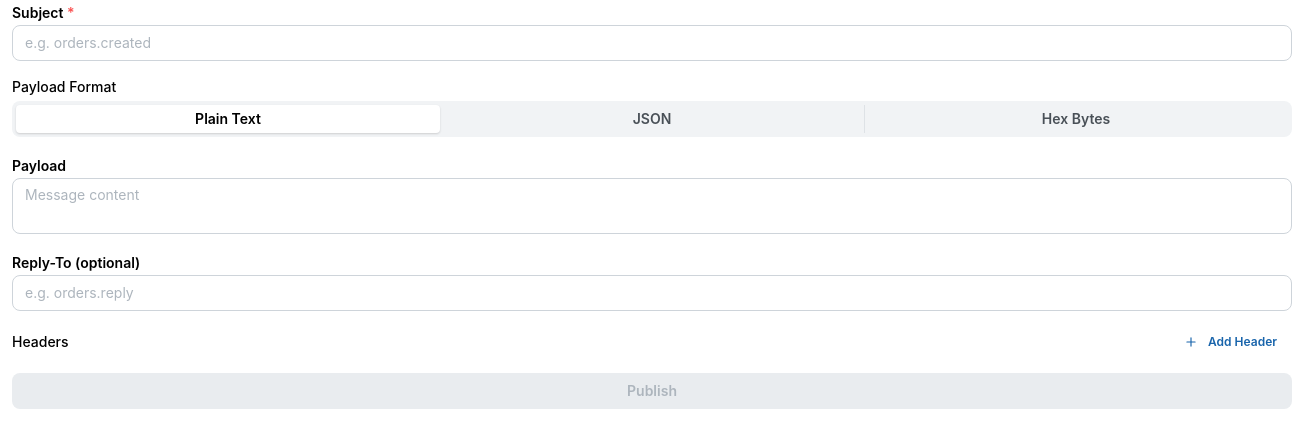
Test: Hex Bytes format with invalid hex disables submit
This screenshot has width=1304, height=445.
Type "test.subject" into the field labelled "Subject *" at {"x": 652, "y": 43}, box [12,25,1292,61]
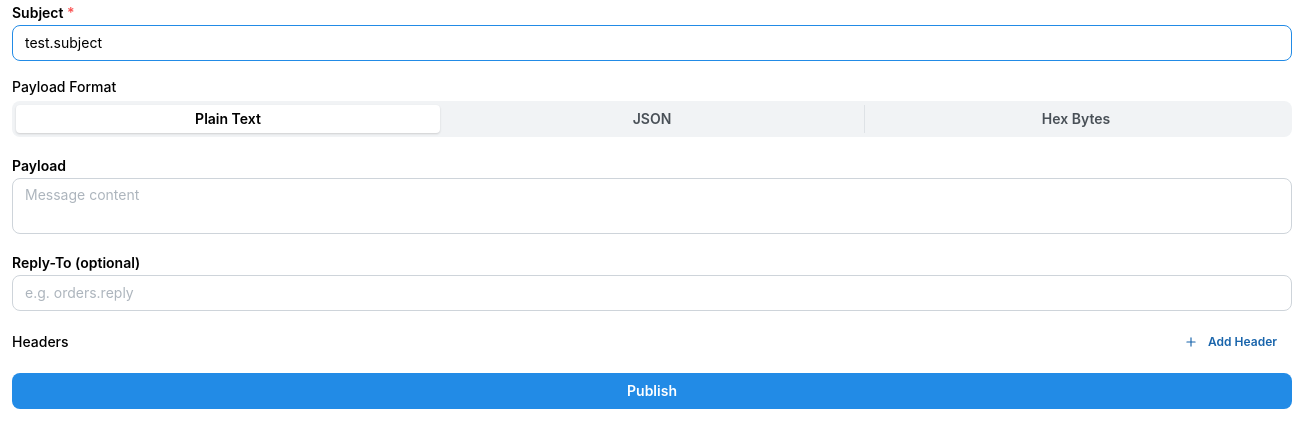
Click the radio button labelled "Hex Bytes" at {"x": 1076, "y": 119}, box [1042,110,1110,127]
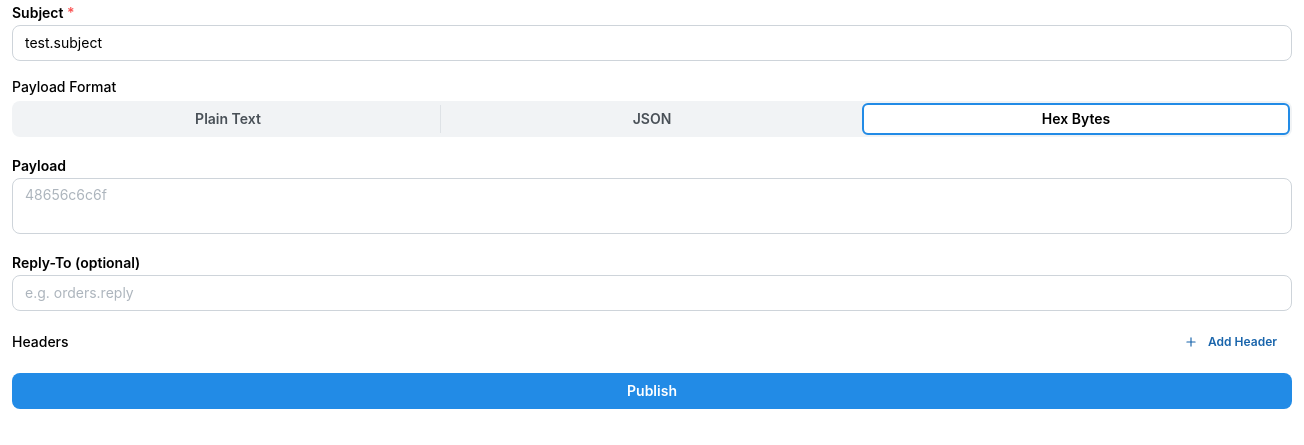
Type "not-hex" into the text box labelled "Payload" at {"x": 652, "y": 206}, box [12,178,1292,234]
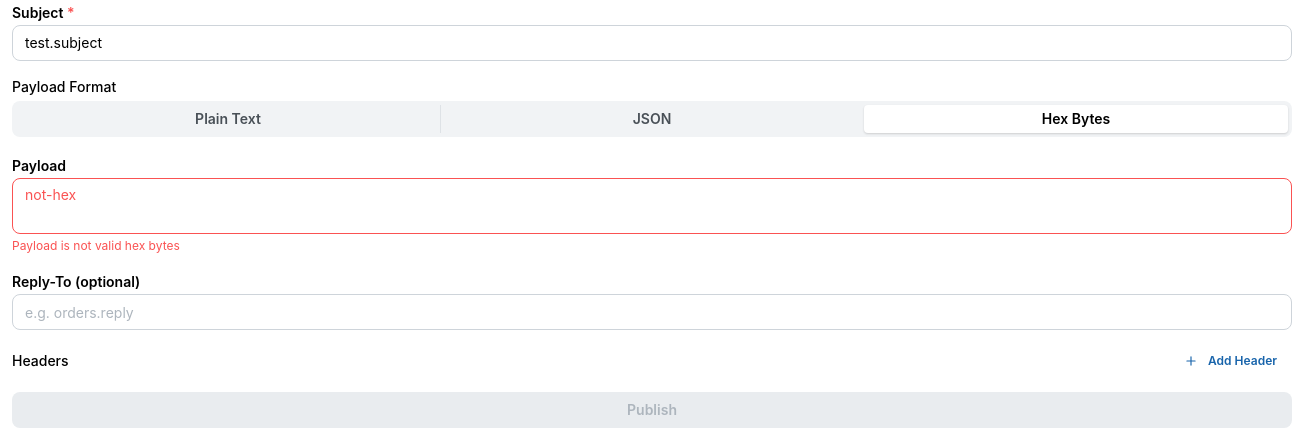
Check: the text "Payload is not valid hex bytes" is shown, box [12,238,180,253]
Check: the button "Publish" is disabled, box [12,392,1292,428]
